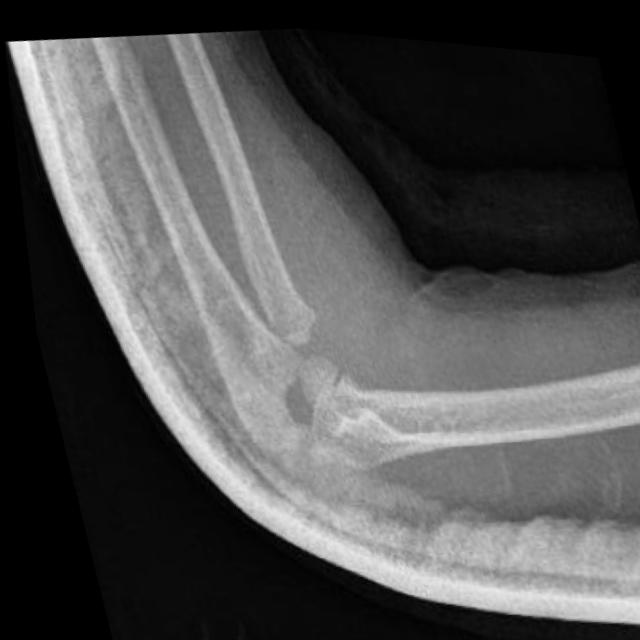fracture: (270, 276, 355, 401)
